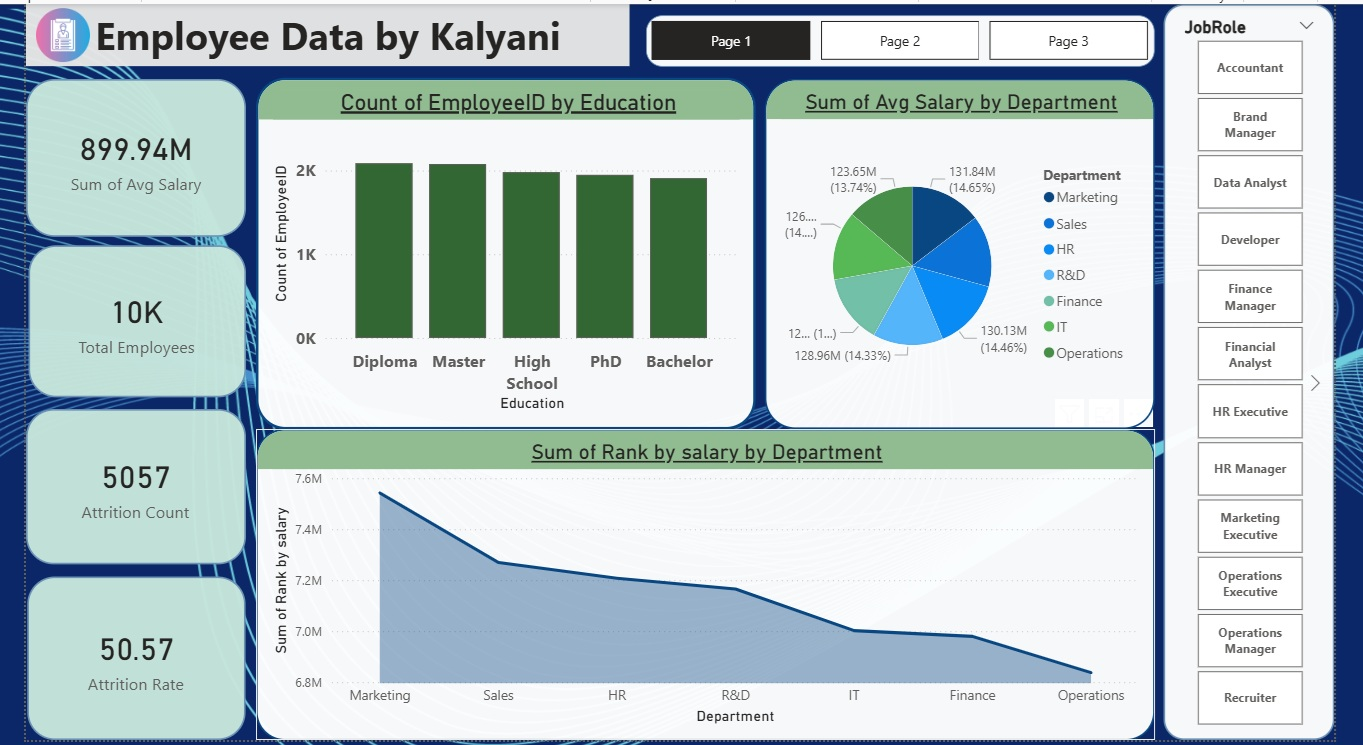

The page's visual inventory and layout, read from the dashboard file:
{"tool":"powerbi","page":{"name":"Page 1","canvas":[1280,720],"ordinal":0},"visuals":[{"type":"columnChart","fields":{"Category":["Employee_Data.Education"],"Y":["CountNonNull(Employee_Data.EmployeeID)"]},"box":[225,72.1,489.1,343.6],"z":0},{"type":"textbox","box":[0,0,590.6,61.1],"z":1000},{"type":"slicer","fields":{"Values":["Employee_Data.JobRole"]},"box":[1112.8,0,167.5,720.2],"z":2000},{"type":"image","box":[9.8,0,52.6,61.1],"z":3000},{"type":"areaChart","fields":{"Category":["Employee_Data.Department"],"Y":["Sum(Employee_Data.Rank by salary)"]},"box":[225,415.8,879.2,304.5],"z":4000},{"type":"card","fields":{"Values":["Sum(Employee_Data.Avg Salary)"]},"box":[0,73.4,215.2,154.1],"z":5000},{"type":"card","fields":{"Values":["Employee_Data.Total Employees"]},"box":[2.4,236,212.8,149.2],"z":6000},{"type":"pageNavigator","box":[606.5,11,497.7,50.1],"z":7000},{"type":"card","fields":{"Values":["Employee_Data.Attrition Rate"]},"box":[1.2,560.1,214,160.2],"z":8000},{"type":"card","fields":{"Values":["Employee_Data.Attrition Count"]},"box":[0,396.2,215.2,151.6],"z":9000},{"type":"pieChart","fields":{"Y":["Sum(Employee_Data.Avg Salary)"],"Category":["Employee_Data.Department"]},"box":[722.7,73.4,381.5,342.4],"z":10000}]}

Visuals, with their boxes in screenshot pixels (x1, y1, x2, y2):
columnChart - Employee_Data.Education x CountNonNull(Employee_Data.EmployeeID): Rect(255, 74, 754, 424)
textbox: Rect(25, 0, 628, 62)
slicer - Employee_Data.JobRole: Rect(1161, 0, 1332, 735)
image: Rect(35, 0, 89, 62)
areaChart - Employee_Data.Department x Sum(Employee_Data.Rank by salary): Rect(255, 425, 1152, 735)
card - Sum(Employee_Data.Avg Salary): Rect(25, 75, 245, 232)
card - Employee_Data.Total Employees: Rect(27, 241, 245, 393)
pageNavigator: Rect(644, 11, 1152, 62)
card - Employee_Data.Attrition Rate: Rect(26, 572, 245, 735)
card - Employee_Data.Attrition Count: Rect(25, 405, 245, 559)
pieChart - Sum(Employee_Data.Avg Salary) x Employee_Data.Department: Rect(763, 75, 1152, 425)
